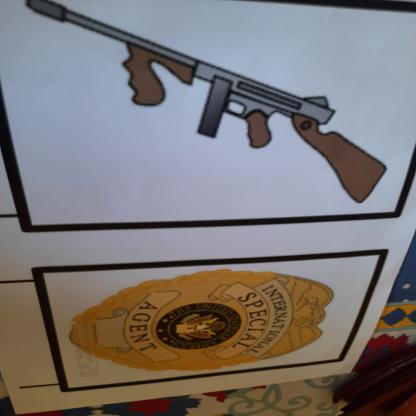Bootlegger: (17, 1, 404, 212)
G-man: (58, 261, 342, 383)
